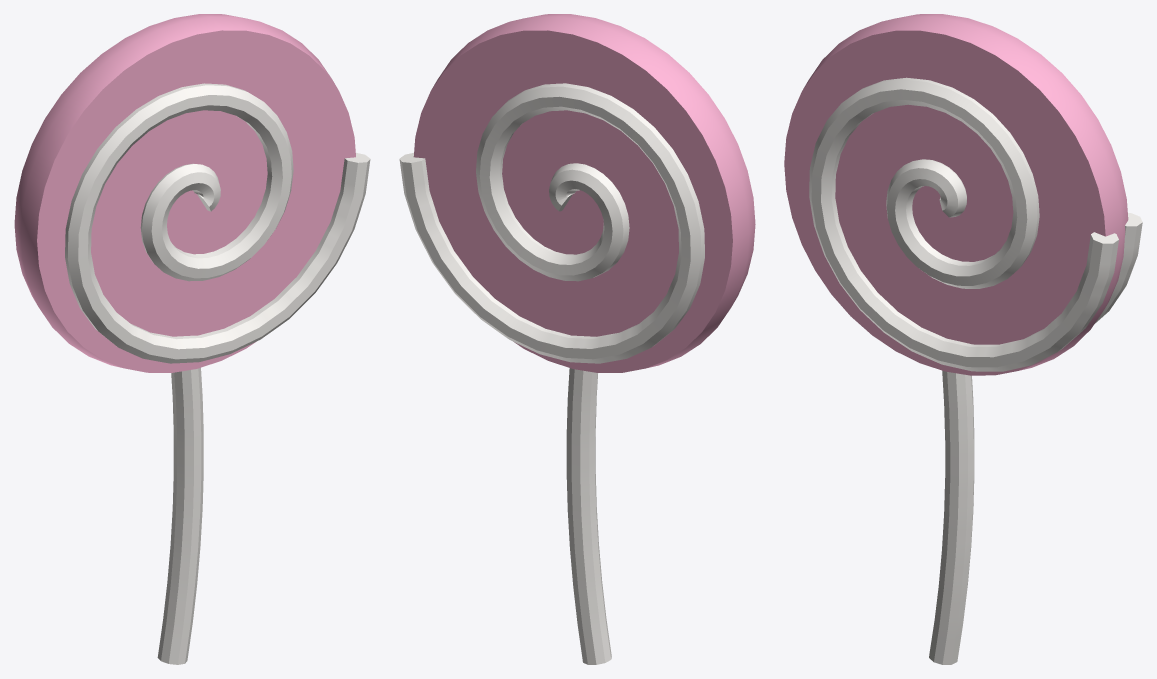
Rendered from Lollipop_GiantPink.fbx.
The picture shows the model from 3 angles, left to right: view 1: azimuth 30°, elevation 25°; view 2: azimuth 150°, elevation 25°; view 3: azimuth 330°, elevation 25°; orthographic projection.
Parts seen in each view (by area): view 1: Lollipop_GiantPink; view 2: Lollipop_GiantPink; view 3: Lollipop_GiantPink.
Part boxes in pixels (<box>): Lollipop_GiantPink: <box>14,14,370,664</box>; Lollipop_GiantPink: <box>399,14,755,664</box>; Lollipop_GiantPink: <box>784,14,1142,664</box>.
Bounding box in the file's own units: 7.73 × 14.05 × 1.51.
